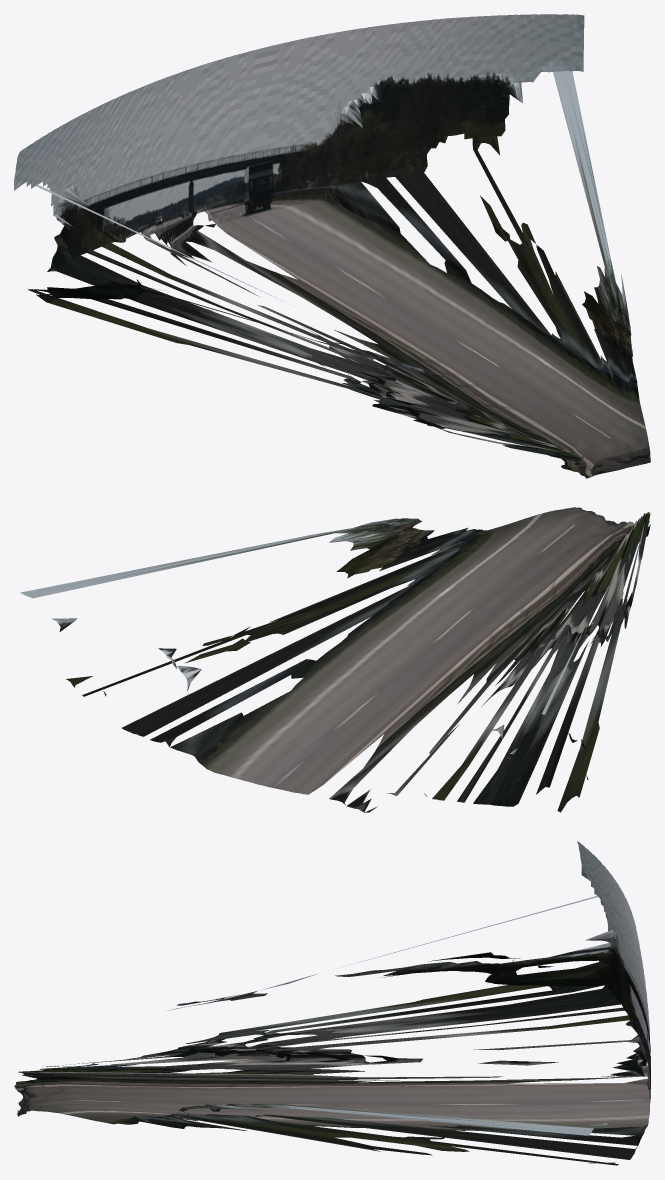
3 renders of one model, top to bottom at view 1: azimuth 30°, elevation 25°; view 2: azimuth 150°, elevation 25°; view 3: azimuth 270°, elevation 25°, orthographic. The views are drawn at different scales.
Visible parts, largest first — view 1: defaultobject; view 2: defaultobject; view 3: defaultobject.
Part boxes in pixels (x1,y1,x2,y2): defaultobject: [14, 14, 650, 478]; defaultobject: [20, 507, 650, 812]; defaultobject: [14, 841, 650, 1165].
Size of the model in its own units: 40.89 by 12.66 by 44.57.
Materials: 1 (1 with a texture image).
